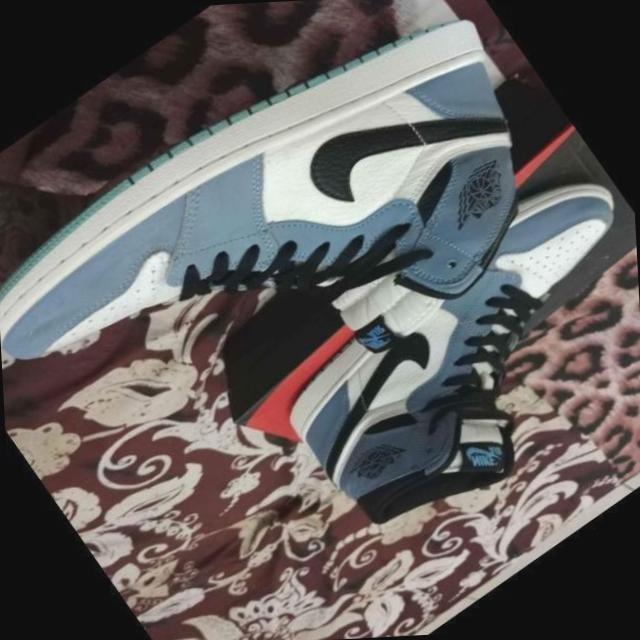nike_fake_jordan: (0, 0, 619, 544), (241, 146, 640, 574)
